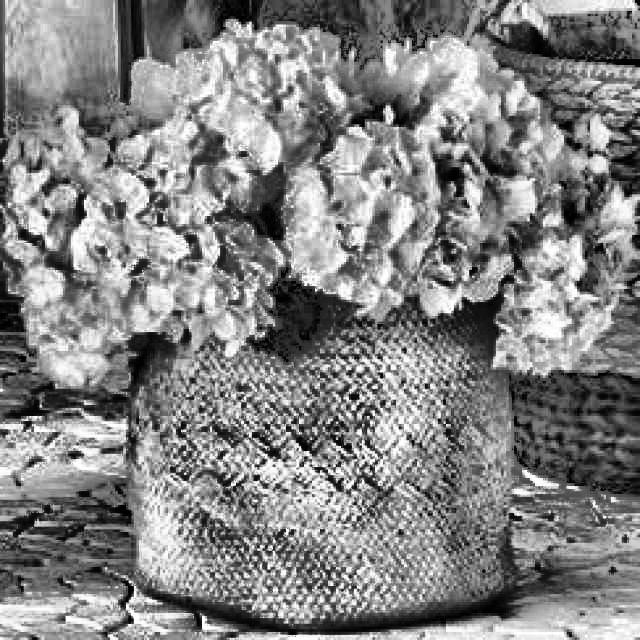plants: (15, 60, 638, 600)
